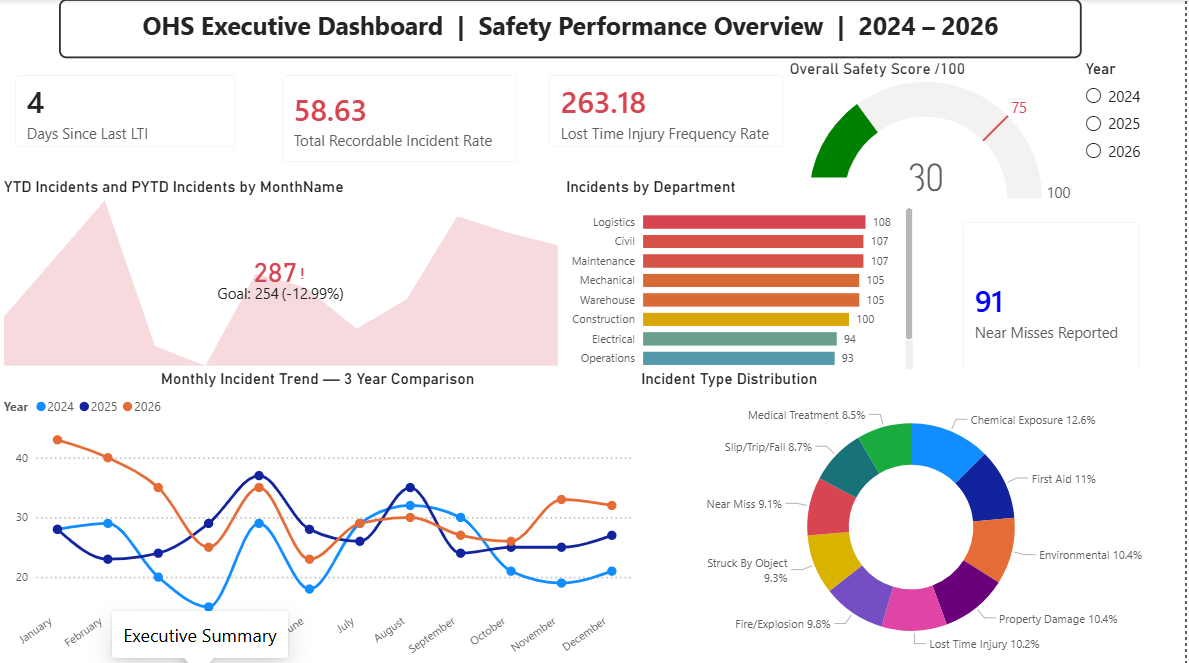

The dashboard page shown, as its layout file describes it:
{"tool":"powerbi","page":{"name":" Executive Summary","canvas":[1280,720],"ordinal":1},"visuals":[{"type":"cardVisual","fields":{"Data":["OHS_Measures.Days Since Last LTI"]},"box":[0,64,272,112],"z":0},{"type":"cardVisual","fields":{"Data":["OHS_Measures.TRIR"]},"box":[288,64,288,128],"z":1000},{"type":"cardVisual","fields":{"Data":["OHS_Measures.LTIFR"]},"box":[576,64,288,112],"z":2000},{"type":"kpi","fields":{"Indicator":["OHS_Measures.YTD Incidents"],"TrendLine":["OHS_Date_Table.MonthName"],"Goal":["OHS_Measures.PYTD Incidents"]},"box":[0,192,608,208],"z":3000},{"type":"gauge","fields":{"Y":["OHS_Measures.Safety Score"]},"box":[848,64,320,160],"z":4000},{"type":"cardVisual","fields":{"Data":["OHS_Measures.Near Misses"]},"box":[1024,224,224,224],"z":5000},{"type":"lineChart","title":"Monthly Incident Trend — 3 Year Comparison","fields":{"Y":["OHS_Measures.Total Incidents"],"Category":["OHS_Date_Table.Date.Variation.Date Hierarchy.Year","OHS_Date_Table.Date.Variation.Date Hierarchy.Month"],"Series":["OHS_Date_Table.Date.Variation.Date Hierarchy.Year"]},"box":[0,400,688,320],"z":6000},{"type":"clusteredBarChart","title":"Incidents by Department","fields":{"Category":["OHS_Incidents_2024_2026.Department"],"Y":["OHS_Measures.Total Incidents"]},"box":[608,192,384,240],"z":7000},{"type":"donutChart","title":"Incident Type Distribution","fields":{"Y":["OHS_Measures.Total Incidents"],"Category":["OHS_Incidents_2024_2026.IncidentType"]},"box":[688,400,592,320],"z":8000},{"type":"listSlicer","fields":{"Values":["OHS_Date_Table.Year"]},"box":[1168,64,112,128],"z":9000},{"type":"textbox","box":[64,0,1104,64],"z":10000}]}

Visuals, with their boxes in screenshot pixels (x1, y1, x2, y2), scaled from the page's 1280x720 canvas onto the 1189x663 screenshot:
cardVisual - OHS_Measures.Days Since Last LTI: bbox=(0, 59, 253, 162)
cardVisual - OHS_Measures.TRIR: bbox=(268, 59, 535, 177)
cardVisual - OHS_Measures.LTIFR: bbox=(535, 59, 803, 162)
kpi - OHS_Measures.YTD Incidents x OHS_Date_Table.MonthName: bbox=(0, 177, 565, 368)
gauge - OHS_Measures.Safety Score: bbox=(788, 59, 1085, 206)
cardVisual - OHS_Measures.Near Misses: bbox=(951, 206, 1159, 413)
"Monthly Incident Trend — 3 Year Comparison" lineChart: bbox=(0, 368, 639, 662)
"Incidents by Department" clusteredBarChart: bbox=(565, 177, 921, 398)
"Incident Type Distribution" donutChart: bbox=(639, 368, 1188, 662)
listSlicer - OHS_Date_Table.Year: bbox=(1085, 59, 1188, 177)
textbox: bbox=(59, 0, 1085, 59)
